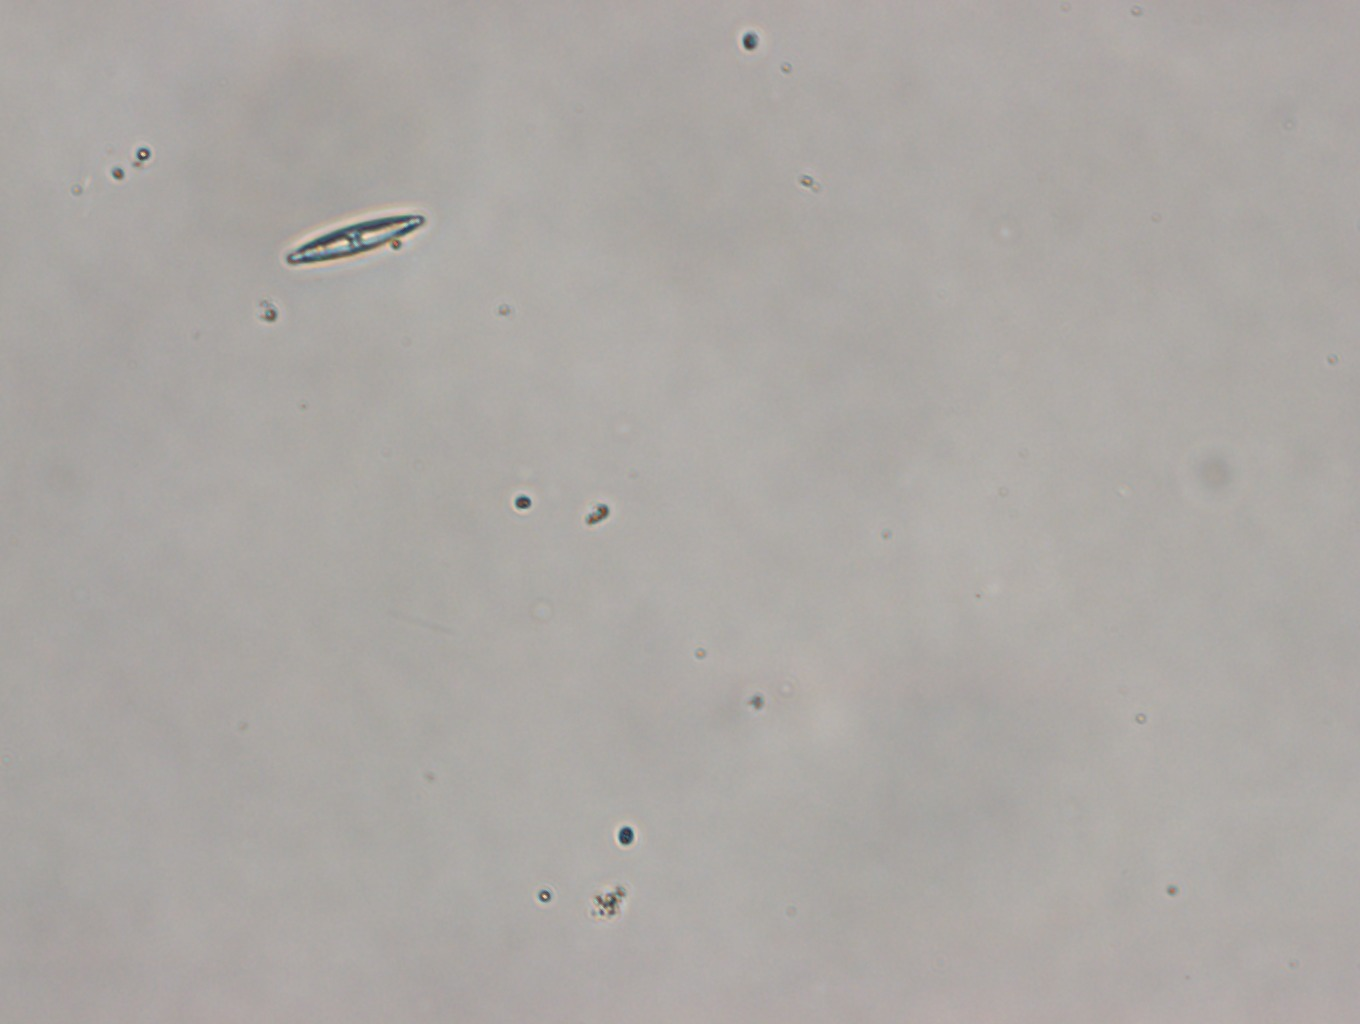navicula: (280, 207, 427, 272)
